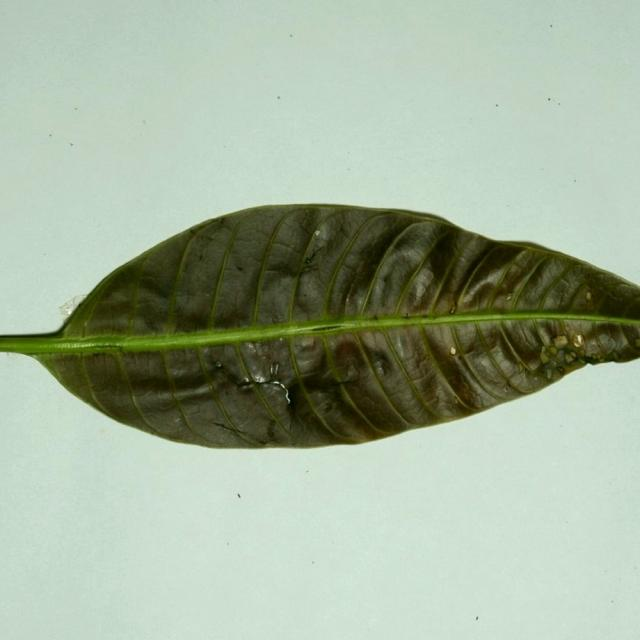Anthracnose: (208, 338, 366, 439), (531, 324, 639, 365), (252, 319, 370, 341), (42, 293, 93, 335), (303, 228, 330, 272), (569, 281, 594, 311), (400, 307, 443, 323), (107, 342, 130, 353), (236, 378, 253, 391)
Mango: (0, 205, 639, 452)
